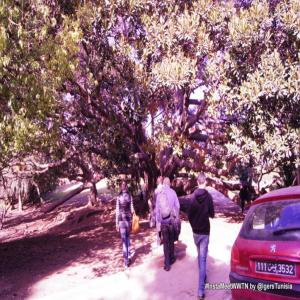Vehicle-registration-plate: (257, 263, 296, 278)
